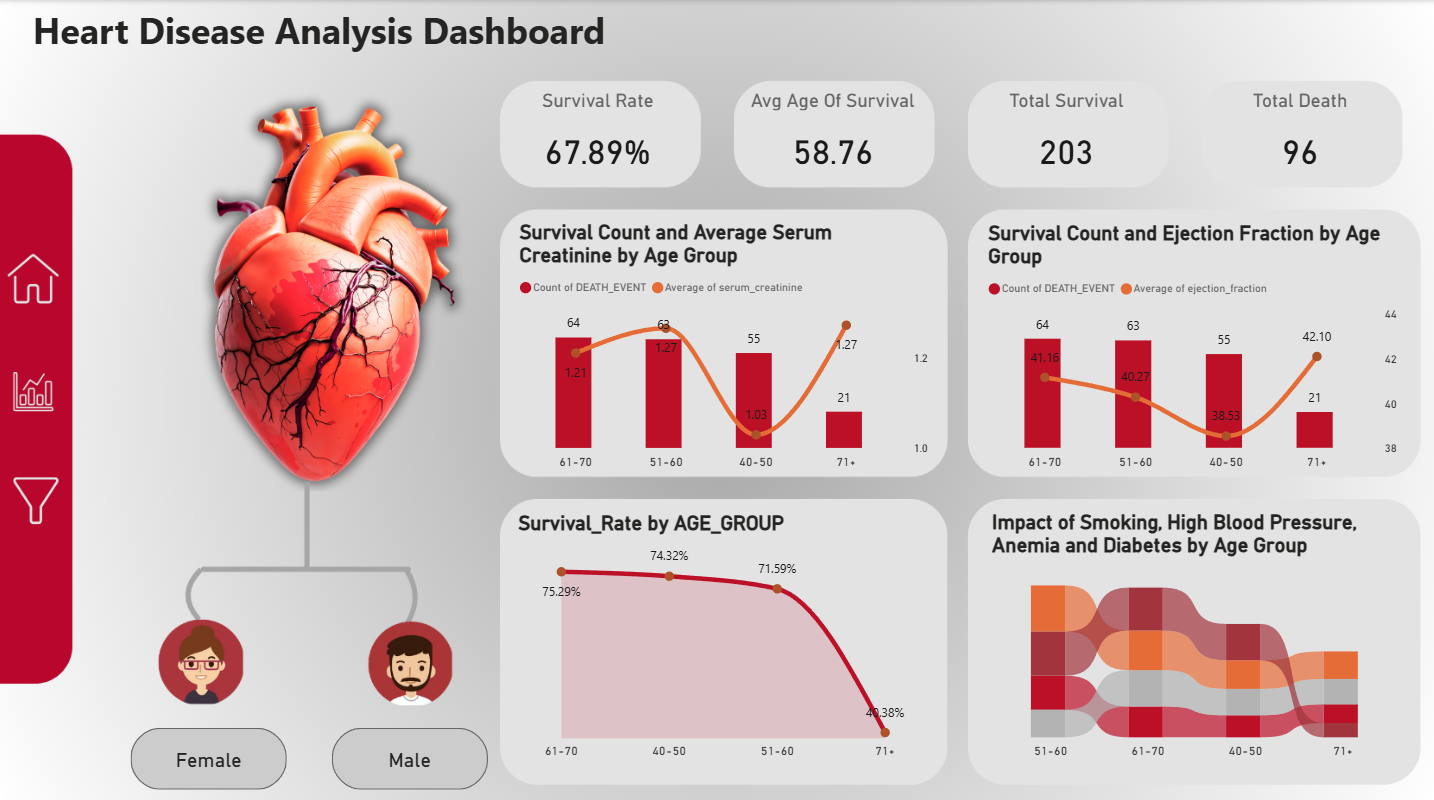

The dashboard page shown, as its layout file describes it:
{"tool":"powerbi","page":{"name":"Page 1","canvas":[1280,720],"ordinal":0},"visuals":[{"type":"textbox","box":[9.6,0,550,55],"z":0},{"type":"cardVisual","title":"Survival Rate","fields":{"Data":["Measure.Survival_Rate"]},"box":[453.1,79,160.5,80],"z":1000},{"type":"cardVisual","title":"Avg Age Of Survival","fields":{"Data":["Measure.Average_Age_of_survival"]},"box":[662.1,79,160,80],"z":2000},{"type":"cardVisual","title":"Total Survival","fields":{"Data":["Measure.Total_sruvival"]},"box":[870.5,79,160,80],"z":3000},{"type":"cardVisual","title":"Total Death","fields":{"Data":["Measure.Total_Death"]},"box":[1079,79,160,80],"z":4000},{"type":"lineClusteredColumnComboChart","title":"Survival Count and Average Serum Creatinine by Age Group","fields":{"Category":["heart_Disease_clinical_records_.AGE_GROUP"],"Y":["CountNonNull(heart_Disease_clinical_records_.DEATH_EVENT)"],"Y2":["Avg(heart_Disease_clinical_records_.serum_creatinine)"]},"box":[458.1,195.4,375.3,229.6],"z":5000},{"type":"lineClusteredColumnComboChart","title":"Survival Count and Ejection Fraction by Age Group","fields":{"Category":["heart_Disease_clinical_records_.AGE_GROUP"],"Y":["CountNonNull(heart_Disease_clinical_records_.DEATH_EVENT)"],"Y2":["Avg(heart_Disease_clinical_records_.ejection_fraction)"]},"box":[876.5,196.6,375.3,228.4],"z":6000},{"type":"lineChart","fields":{"Y":["Measure.Survival_Rate"],"Category":["heart_Disease_clinical_records_.AGE_GROUP"]},"box":[458,455.2,375.3,228.4],"z":7000},{"type":"ribbonChart","title":"Impact of Smoking, High Blood Pressure, Anemia and Diabetes by Age Group","fields":{"Category":["heart_Disease_clinical_records_.AGE_GROUP"],"Y":["Sum(heart_Disease_clinical_records_.smoking)","Sum(heart_Disease_clinical_records_.high_blood_pressure)","Sum(heart_Disease_clinical_records_.anaemia)","Sum(heart_Disease_clinical_records_.diabetes)"]},"box":[879,454.6,375,229.6],"z":8000},{"type":"advancedSlicerVisual","fields":{"Values":["heart_Disease_clinical_records_.Gender"]},"box":[112.3,643.2,328.4,65.4],"z":9000}]}

Visuals, with their boxes in screenshot pixels (x1, y1, x2, y2), scaled from the page's 1280x720 canvas onto the 1434x800 screenshot:
textbox: 11:0:627:61
"Survival Rate" cardVisual: 508:88:687:177
"Avg Age Of Survival" cardVisual: 742:88:921:177
"Total Survival" cardVisual: 975:88:1154:177
"Total Death" cardVisual: 1209:88:1388:177
"Survival Count and Average Serum Creatinine by Age Group" lineClusteredColumnComboChart: 513:217:934:472
"Survival Count and Ejection Fraction by Age Group" lineClusteredColumnComboChart: 982:218:1402:472
lineChart - Measure.Survival_Rate x heart_Disease_clinical_records_.AGE_GROUP: 513:506:934:760
"Impact of Smoking, High Blood Pressure, Anemia and Diabetes by Age Group" ribbonChart: 985:505:1405:760
advancedSlicerVisual - heart_Disease_clinical_records_.Gender: 126:715:494:787
